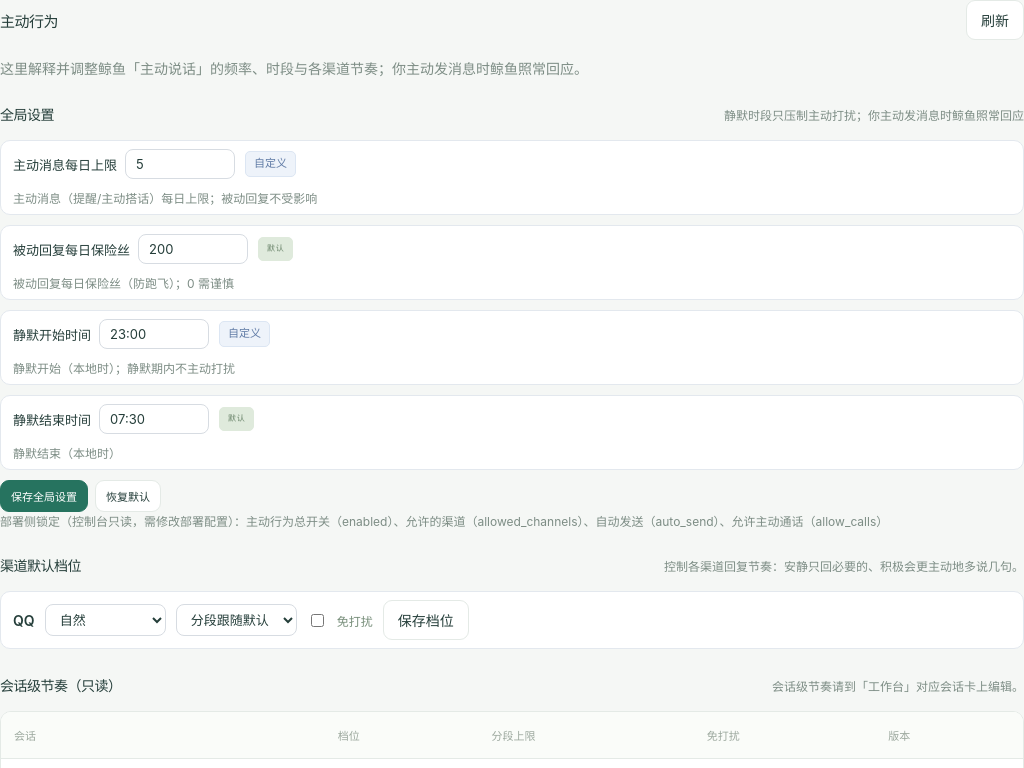
Initiative 主动行为控制面板（issue #42） › 渠道档位：设置 quiet 保存；改回「跟随内置默认」即清除覆盖
// 设置 quiet
Select "安静" in the dropdown named "qq 档位": (105, 620) x1=45 y1=604 x2=166 y2=636
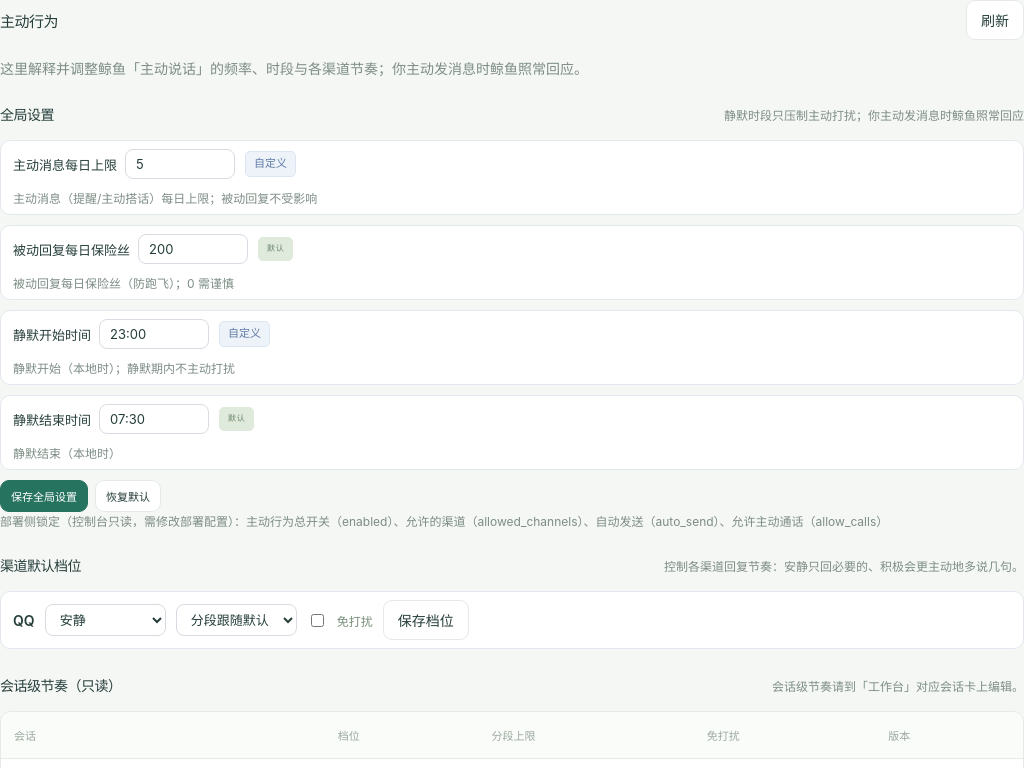
Click the button "保存档位": (426, 620) x1=383 y1=600 x2=469 y2=640
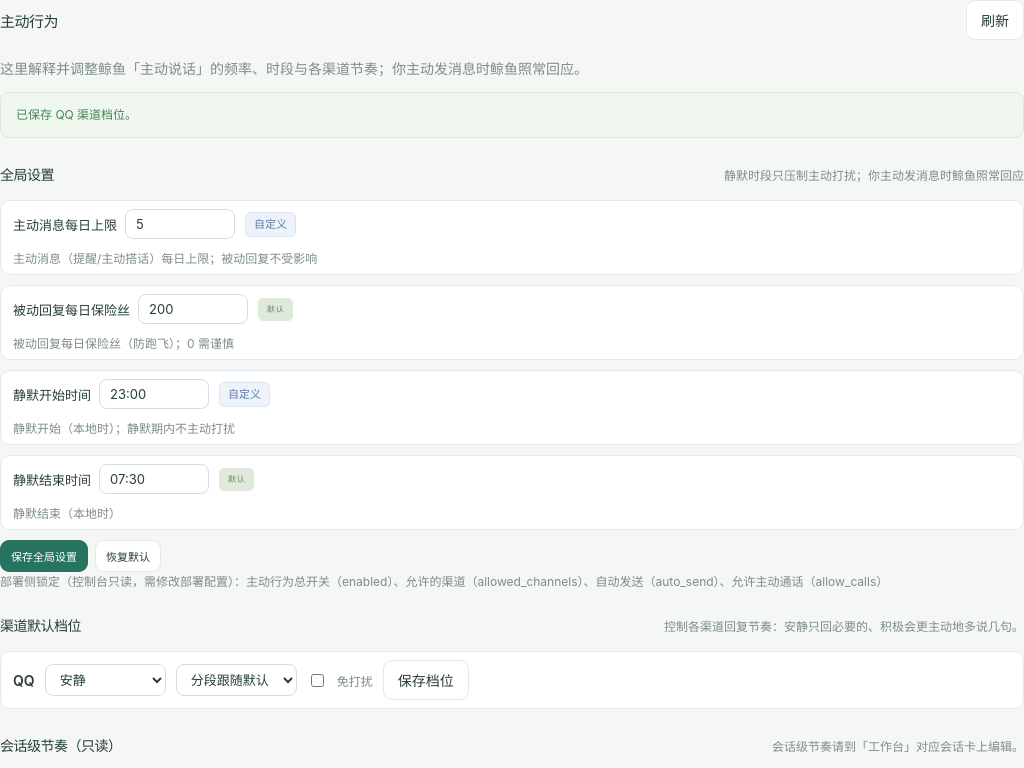
Now the text "已保存 QQ 渠道档位。" is shown, box x1=0 y1=92 x2=1023 y2=138
Select "跟随内置默认" in the dropdown named "qq 档位": (105, 680) x1=45 y1=664 x2=166 y2=696
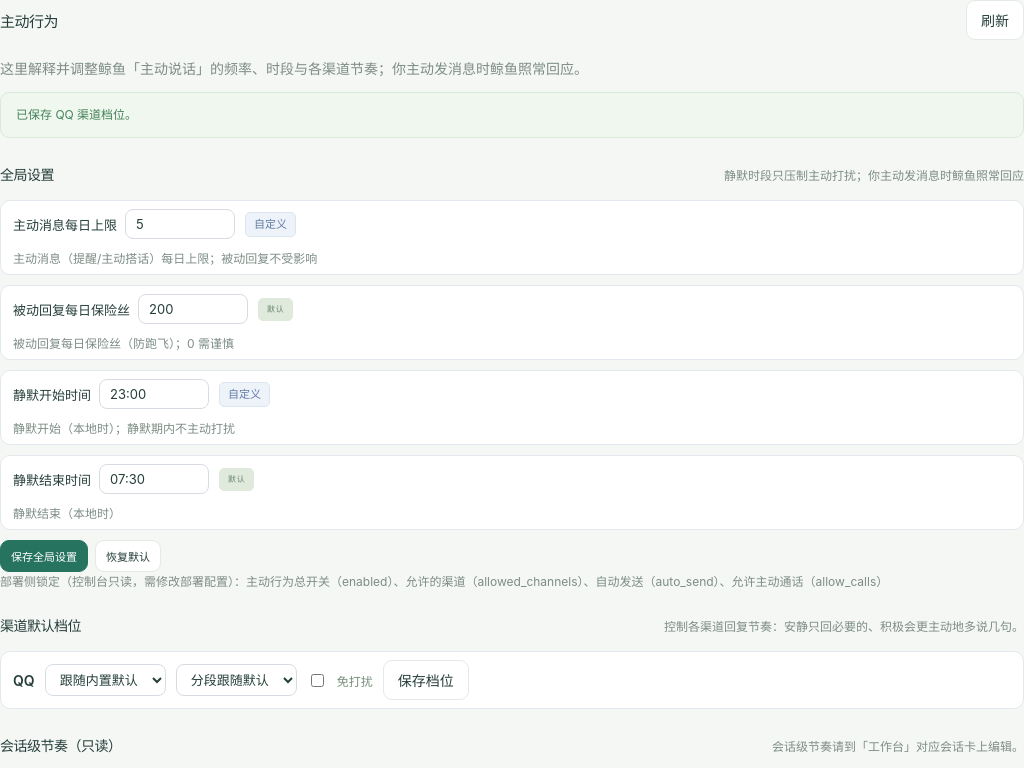
Click the button "保存档位": (426, 680) x1=383 y1=660 x2=469 y2=700
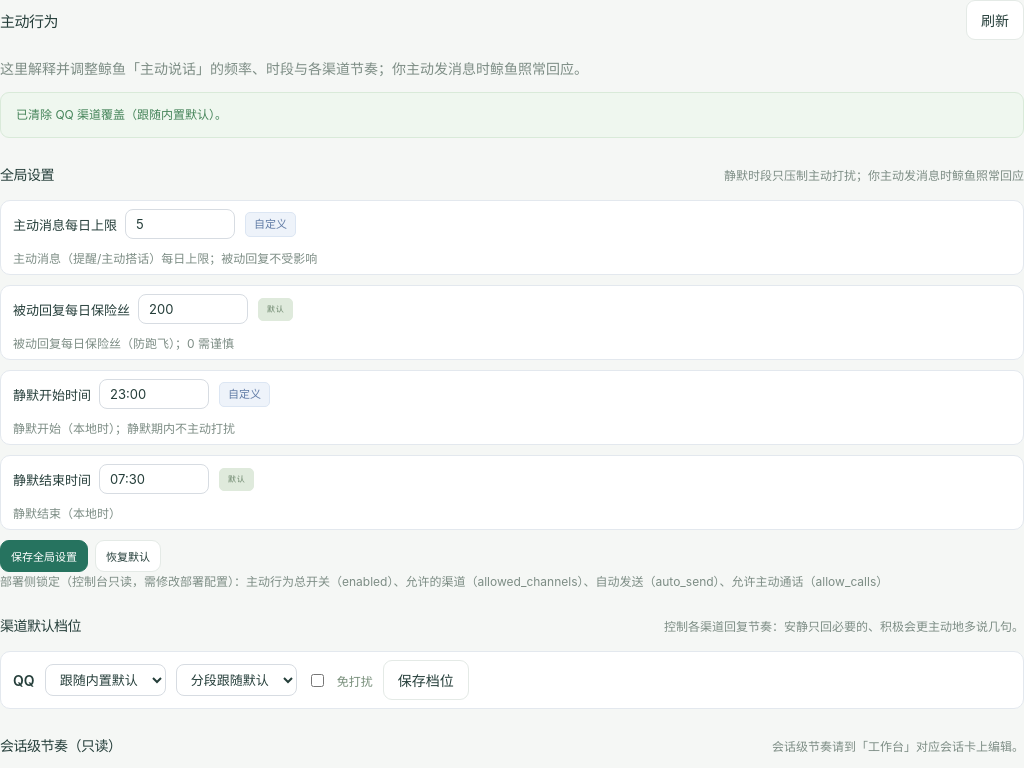
Now the text "已清除 QQ 渠道覆盖（跟随内置默认）。" is shown, box x1=0 y1=92 x2=1023 y2=138
